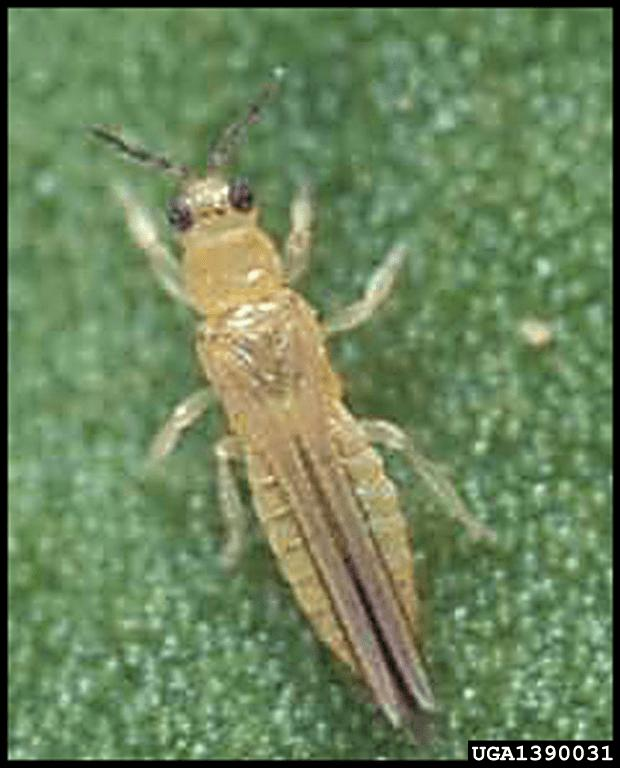Thrips: (110, 75, 495, 725)
